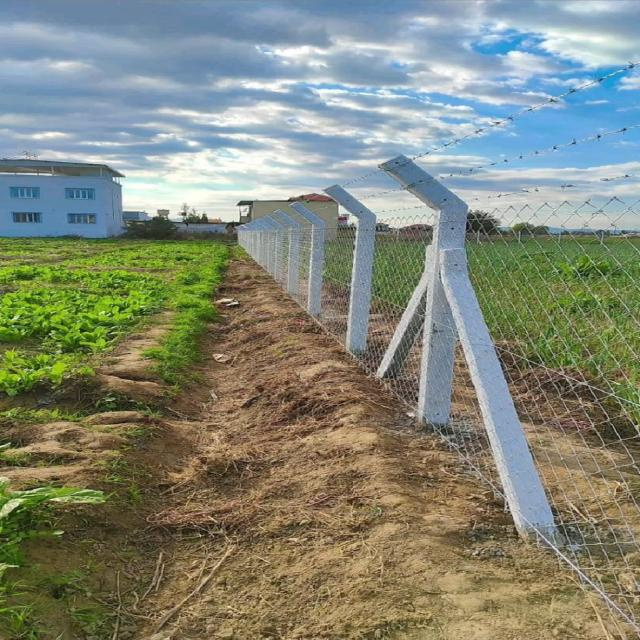fence: (231, 50, 639, 640)
